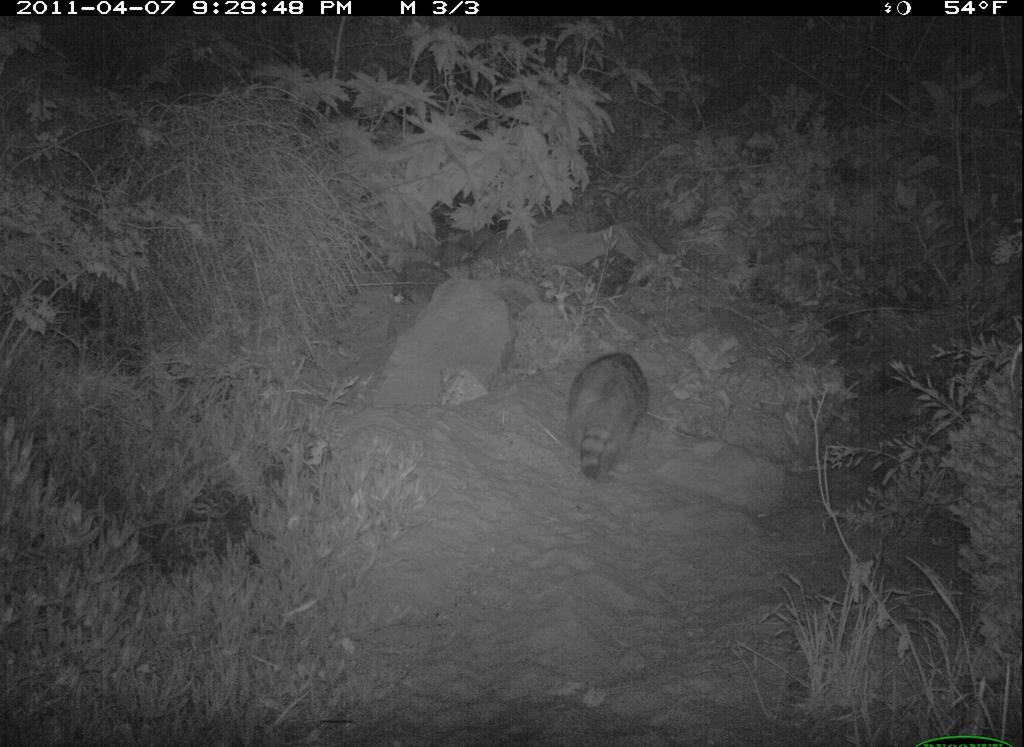raccoon: (557, 341, 655, 479)
